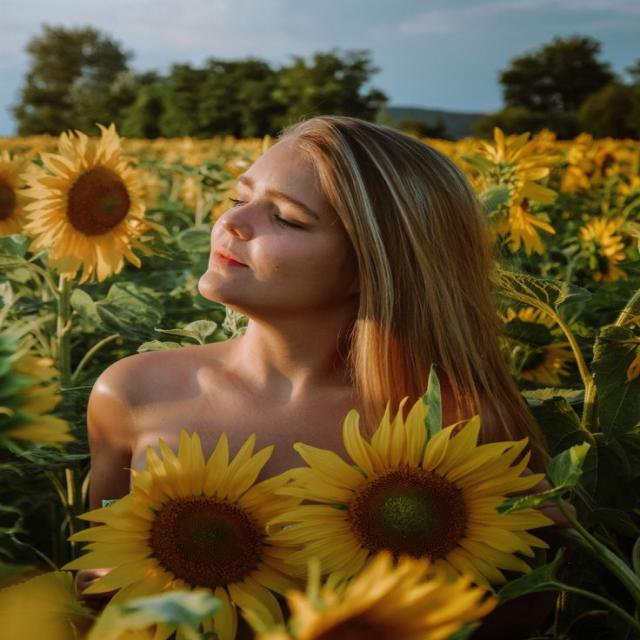sunflower: (265, 394, 555, 596), (61, 428, 308, 638), (18, 121, 165, 285), (256, 550, 498, 640), (458, 126, 559, 256), (0, 356, 76, 448), (496, 304, 578, 386), (0, 148, 39, 238), (576, 215, 628, 282), (560, 148, 592, 192), (181, 174, 213, 204), (594, 146, 622, 178), (620, 175, 640, 192)
